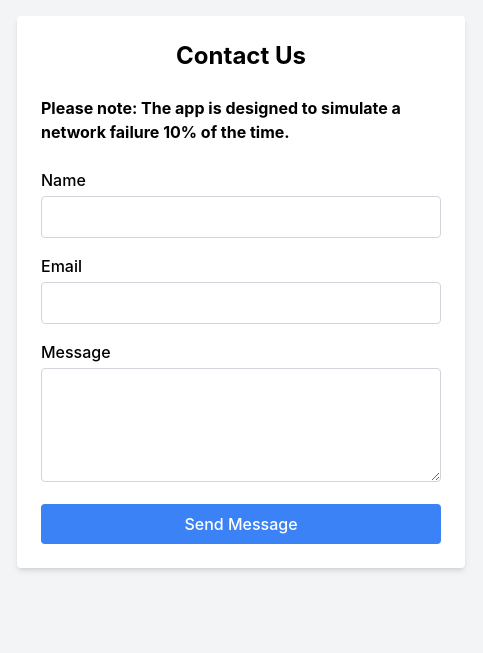
it: ContactForm Component › displays success message when form submission succeeds
Type "Test User" into the field labelled "Name". click: [241, 217]
box: top-left (41, 196), bottom-right (441, 238)
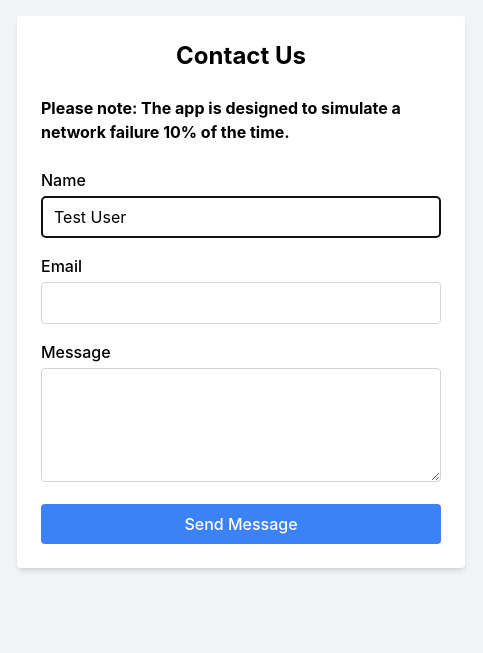
Type "test@example.com" into the field labelled "Email". click: [241, 303]
box: top-left (41, 282), bottom-right (441, 324)
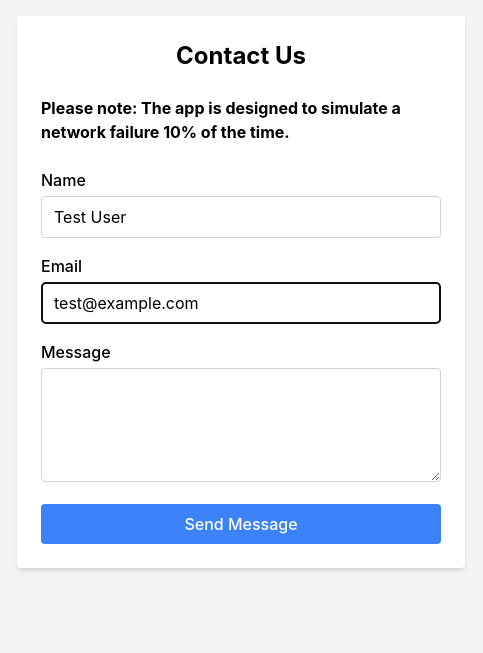
Type "Test message with at least 10 chars" into the text box labelled "Message". click: [241, 425]
box: top-left (41, 368), bottom-right (441, 482)
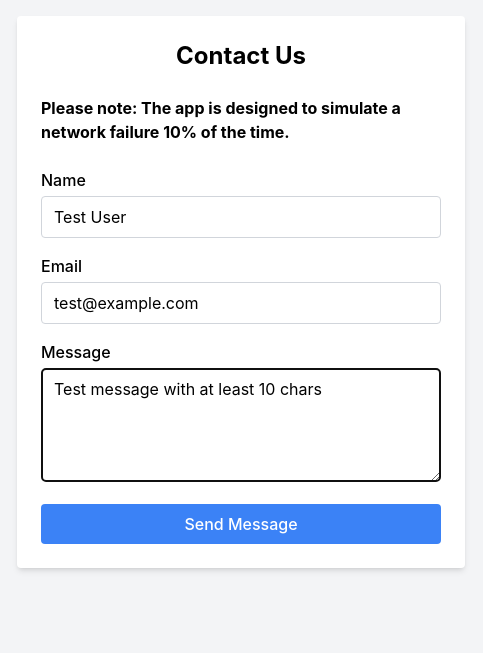
Click the button "Send Message". click: [241, 524]
box: top-left (41, 504), bottom-right (441, 544)
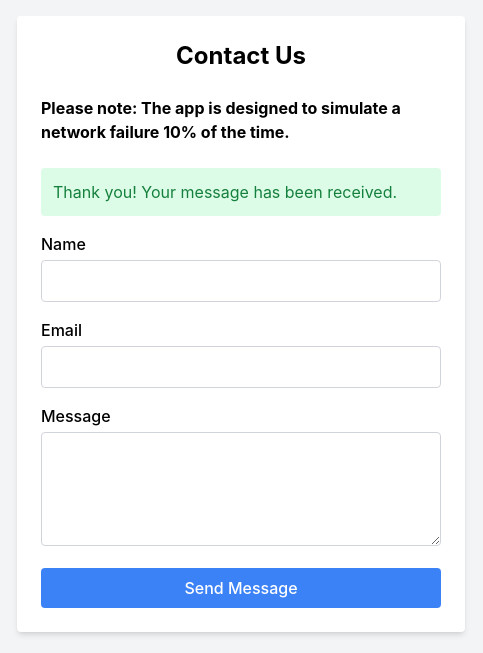
Now the text "Thank you! Your message has been received." is shown, box top-left (41, 168), bottom-right (441, 216)
Now the field labelled "Name" is empty, box top-left (41, 260), bottom-right (441, 302)
Now the field labelled "Email" is empty, box top-left (41, 346), bottom-right (441, 388)
